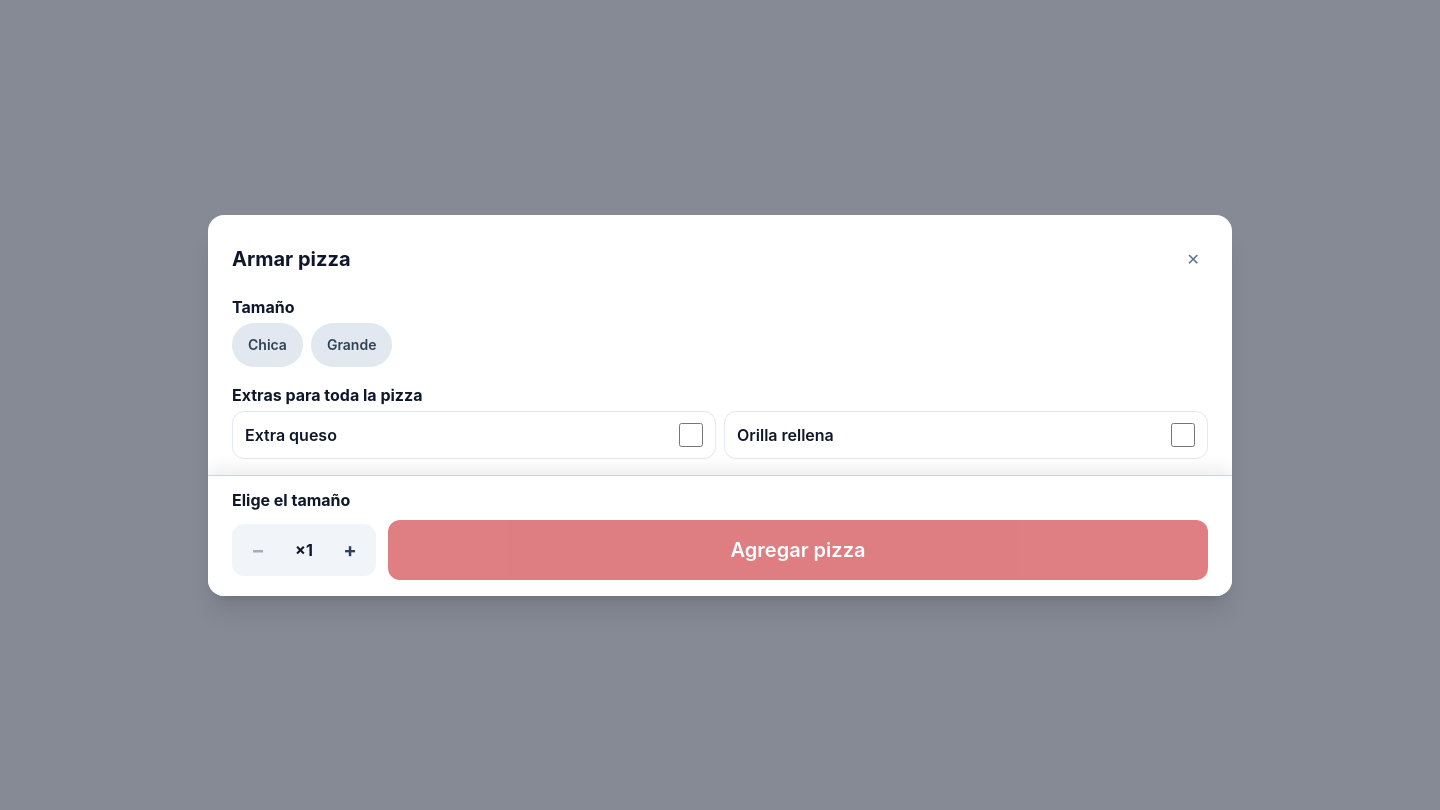
Test: PizzaBuilderModal portion tabs › has no tab strip on a whole pizza
Click the button "Chica" at (267,344), box [232,322,303,366]
Wait 150 ms
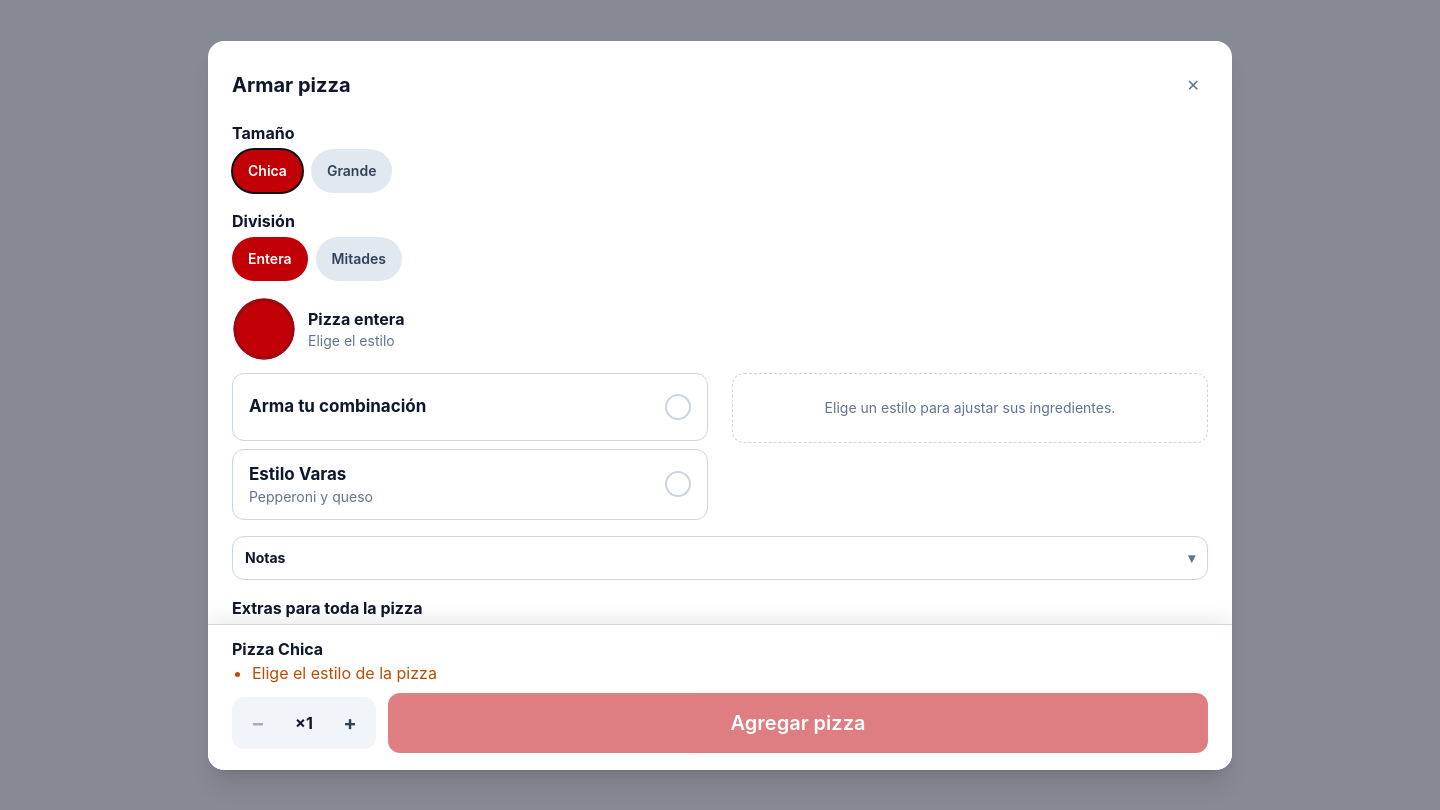
Expected: the element named "Estilo de la Pizza entera" is shown, [232,372,708,520]
